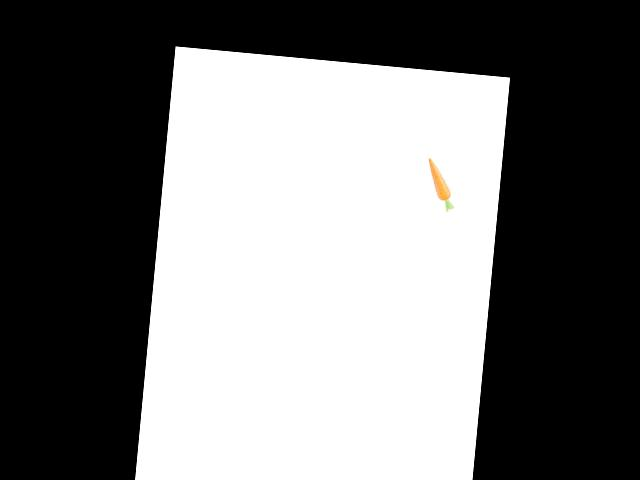carrot: (421, 156, 453, 206)
